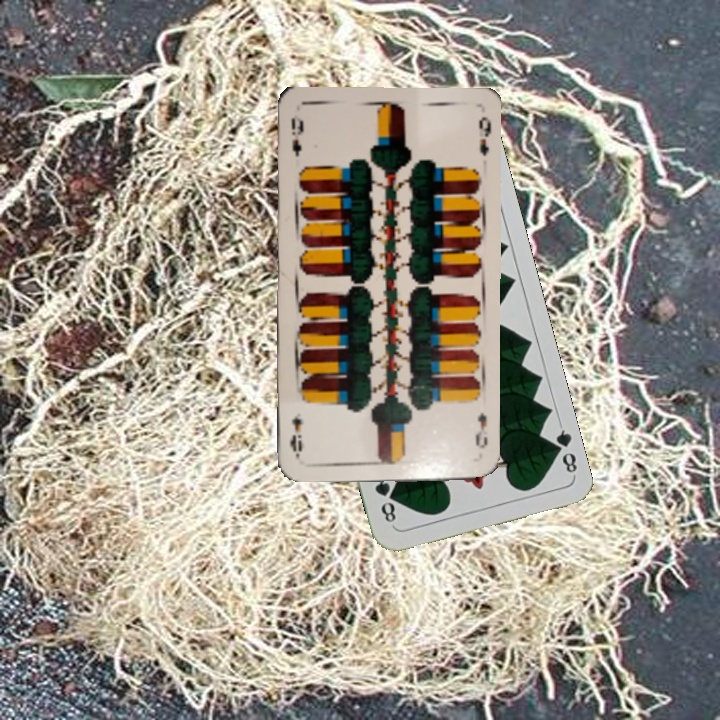E9: (287, 114, 306, 159), (471, 408, 490, 451)
G8: (546, 420, 580, 478)
